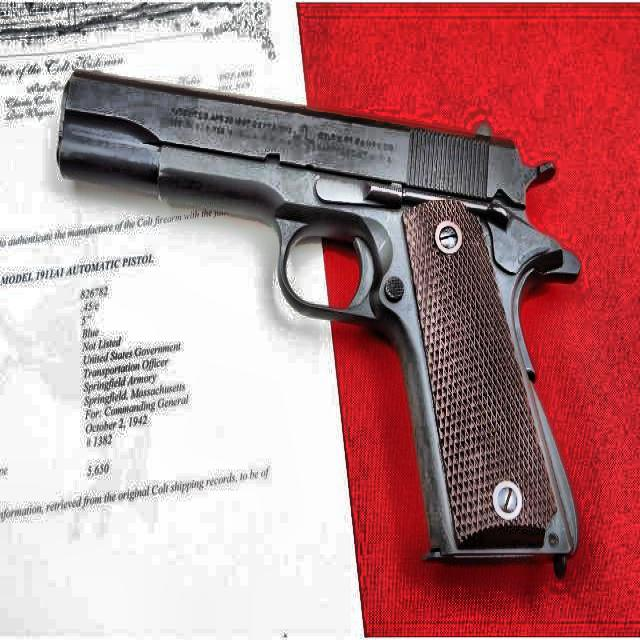Colt m1911: (55, 65, 582, 578)
